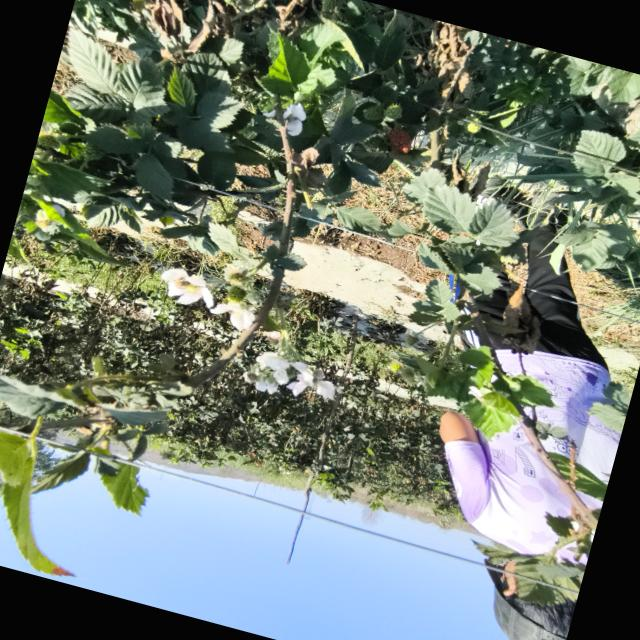flor: (160, 268, 213, 307), (286, 362, 335, 399), (209, 302, 255, 331), (255, 351, 290, 371)
